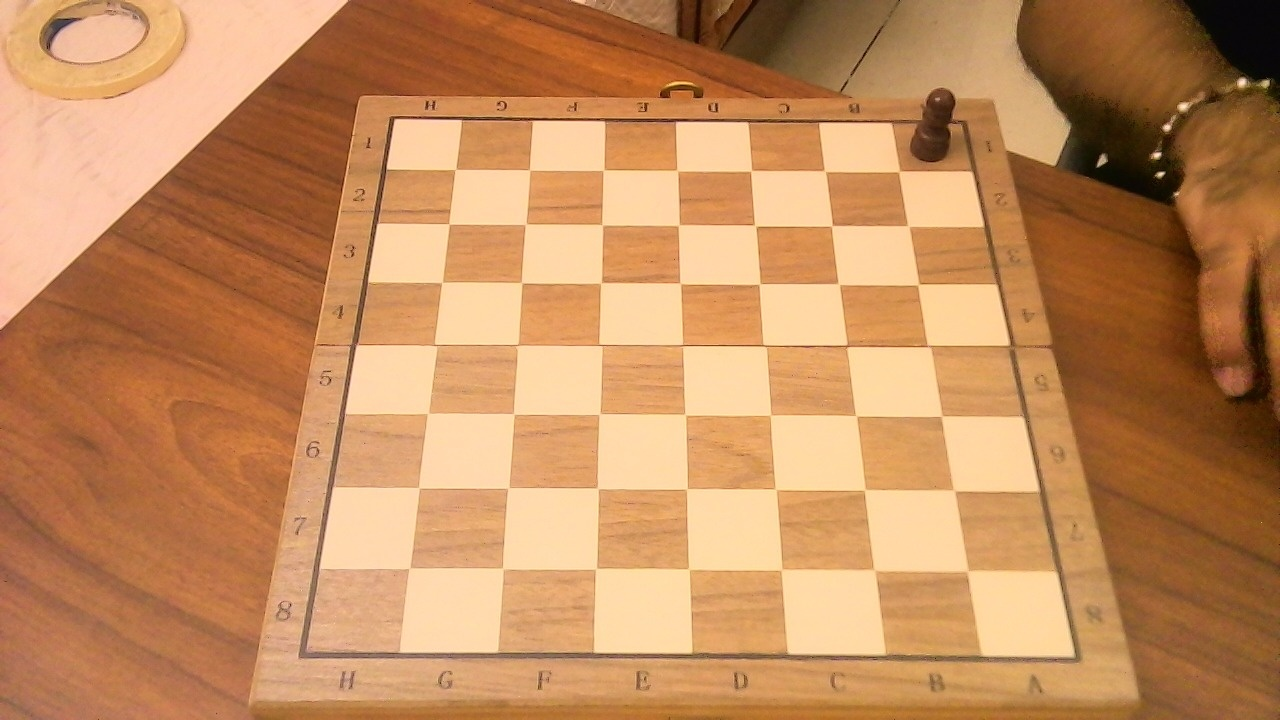p: (905, 76, 965, 166)
